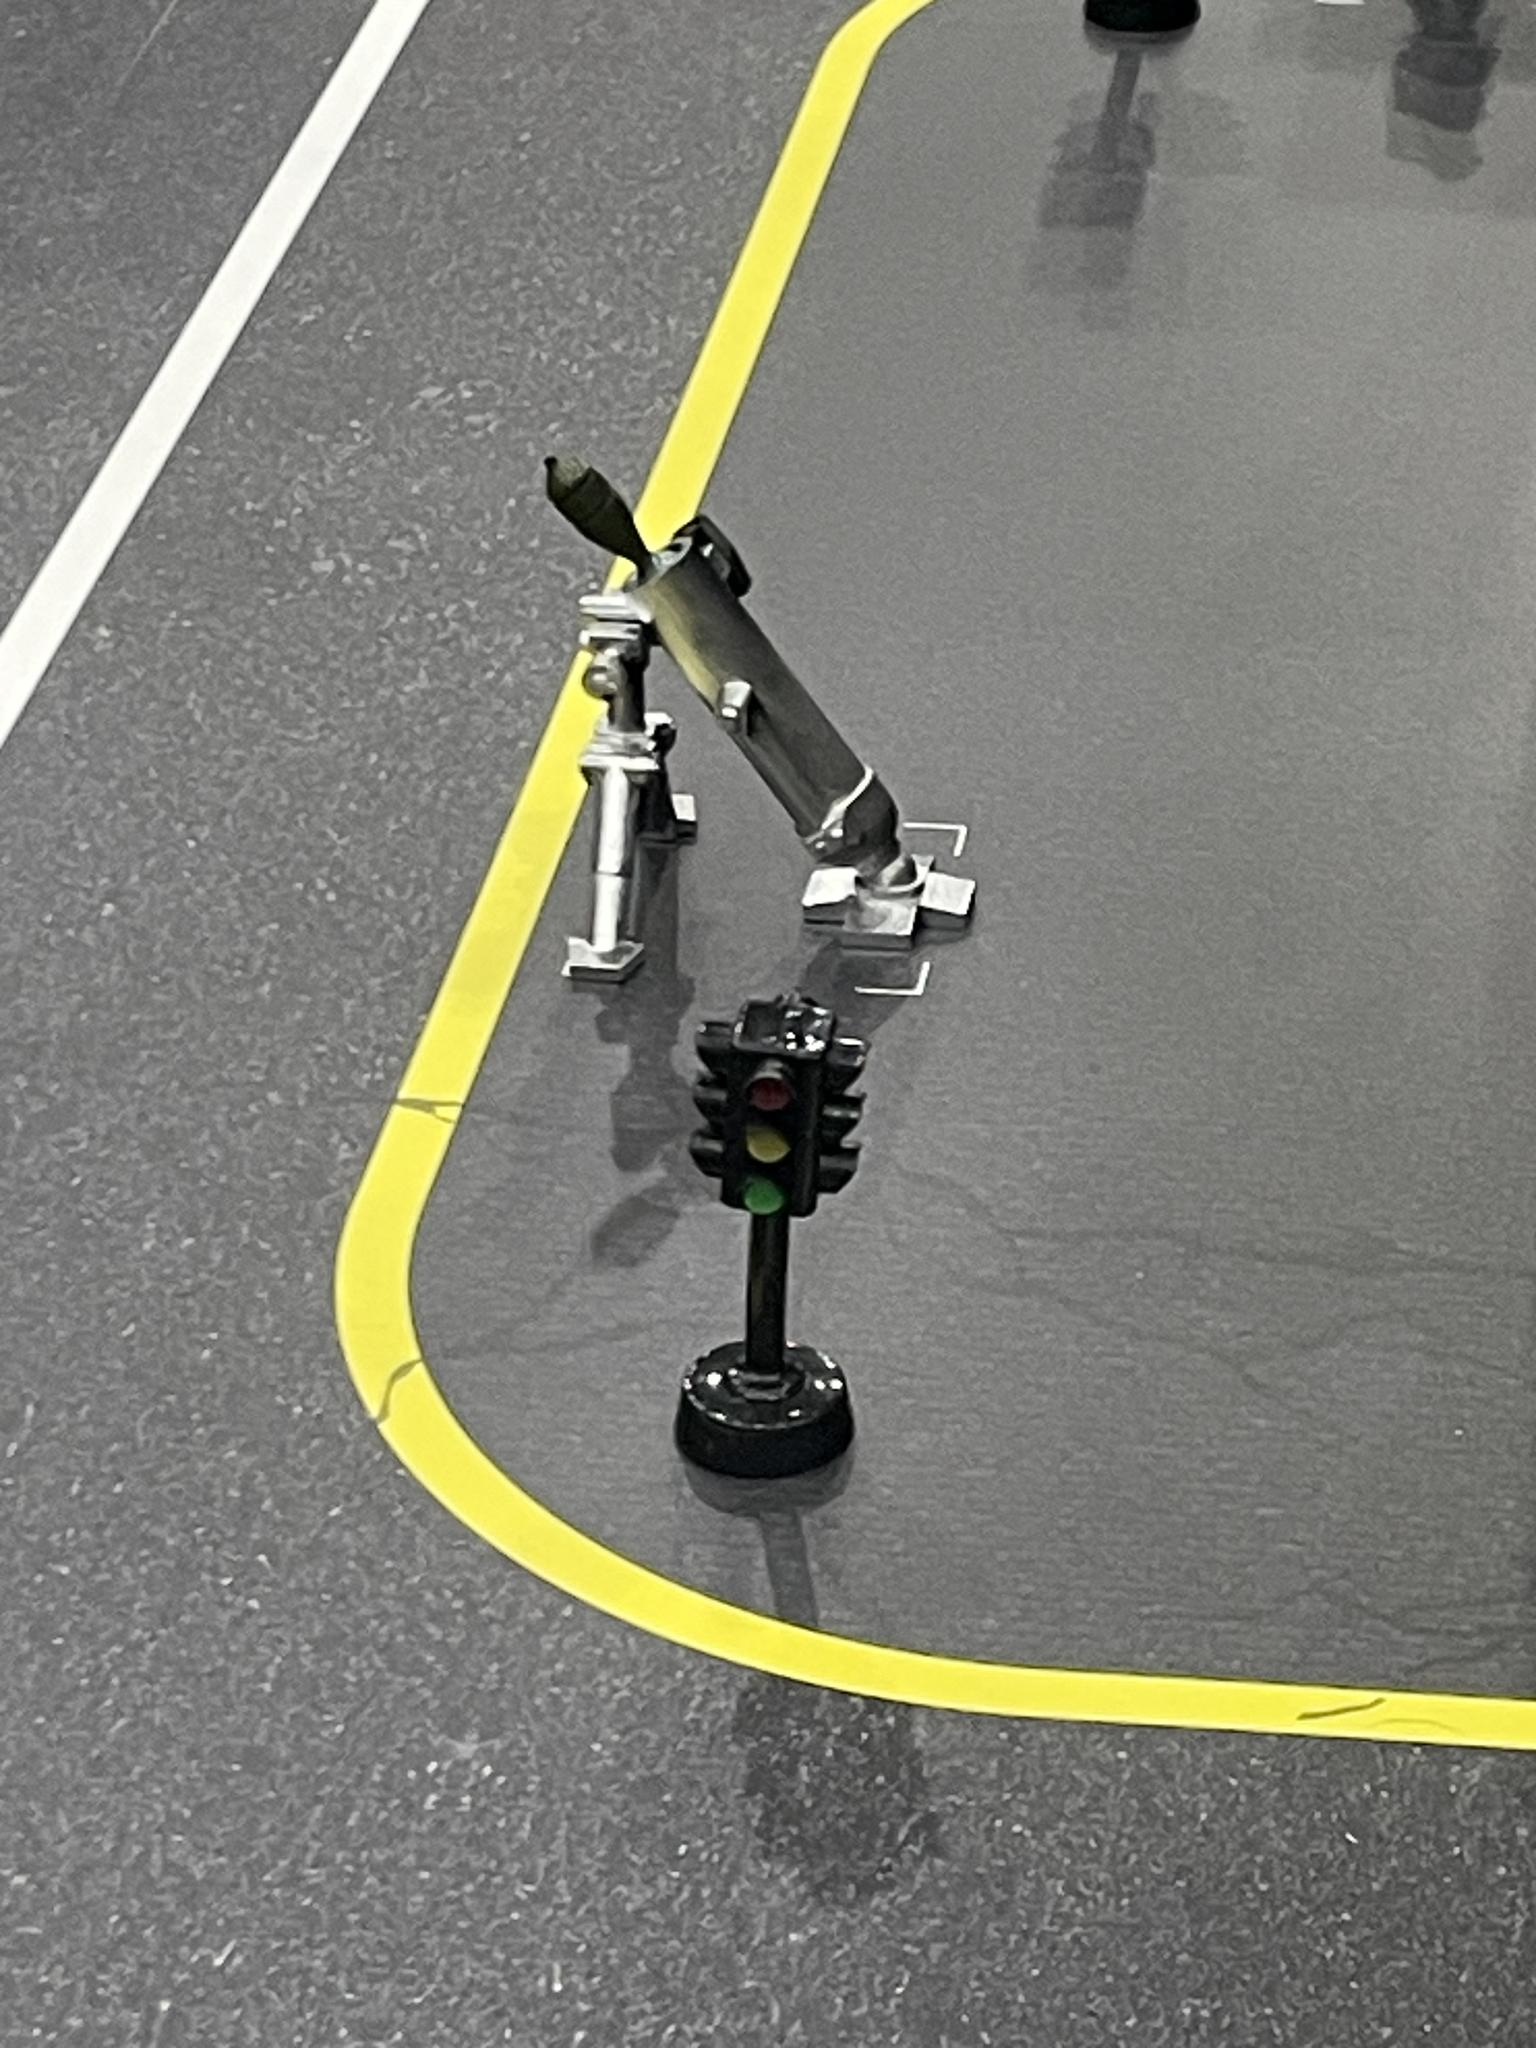Mortar: (513, 439, 991, 998)
